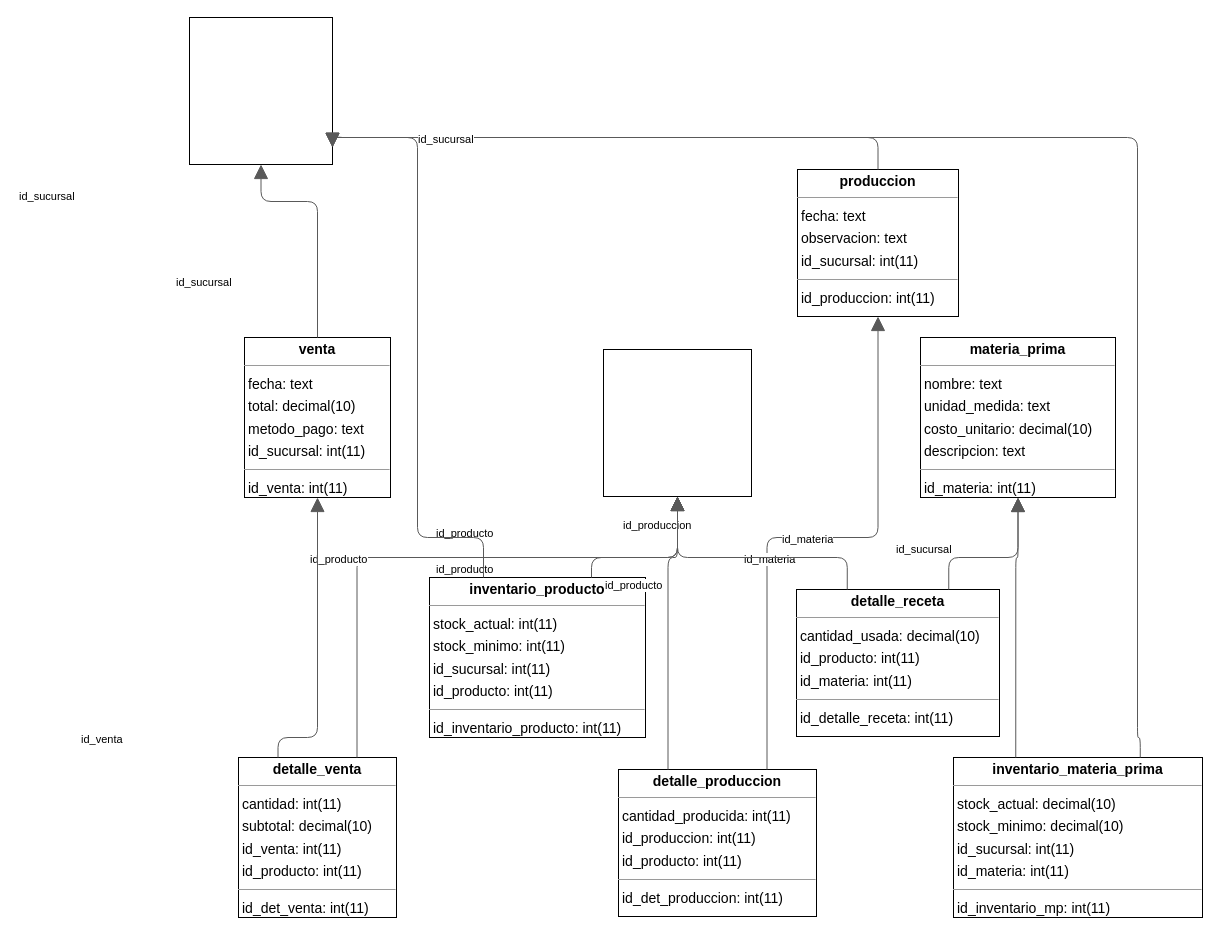
This 1220x935 diagram has some shape labels left out. Each missing label, with the box of its shape:
producto nombre: text precio: decimal(10) descripcion: text id_producto: int(11): (602, 348, 752, 496)
sucursal nombre: text direccion: text telefono: text id_sucursal: int(11): (188, 16, 332, 164)
